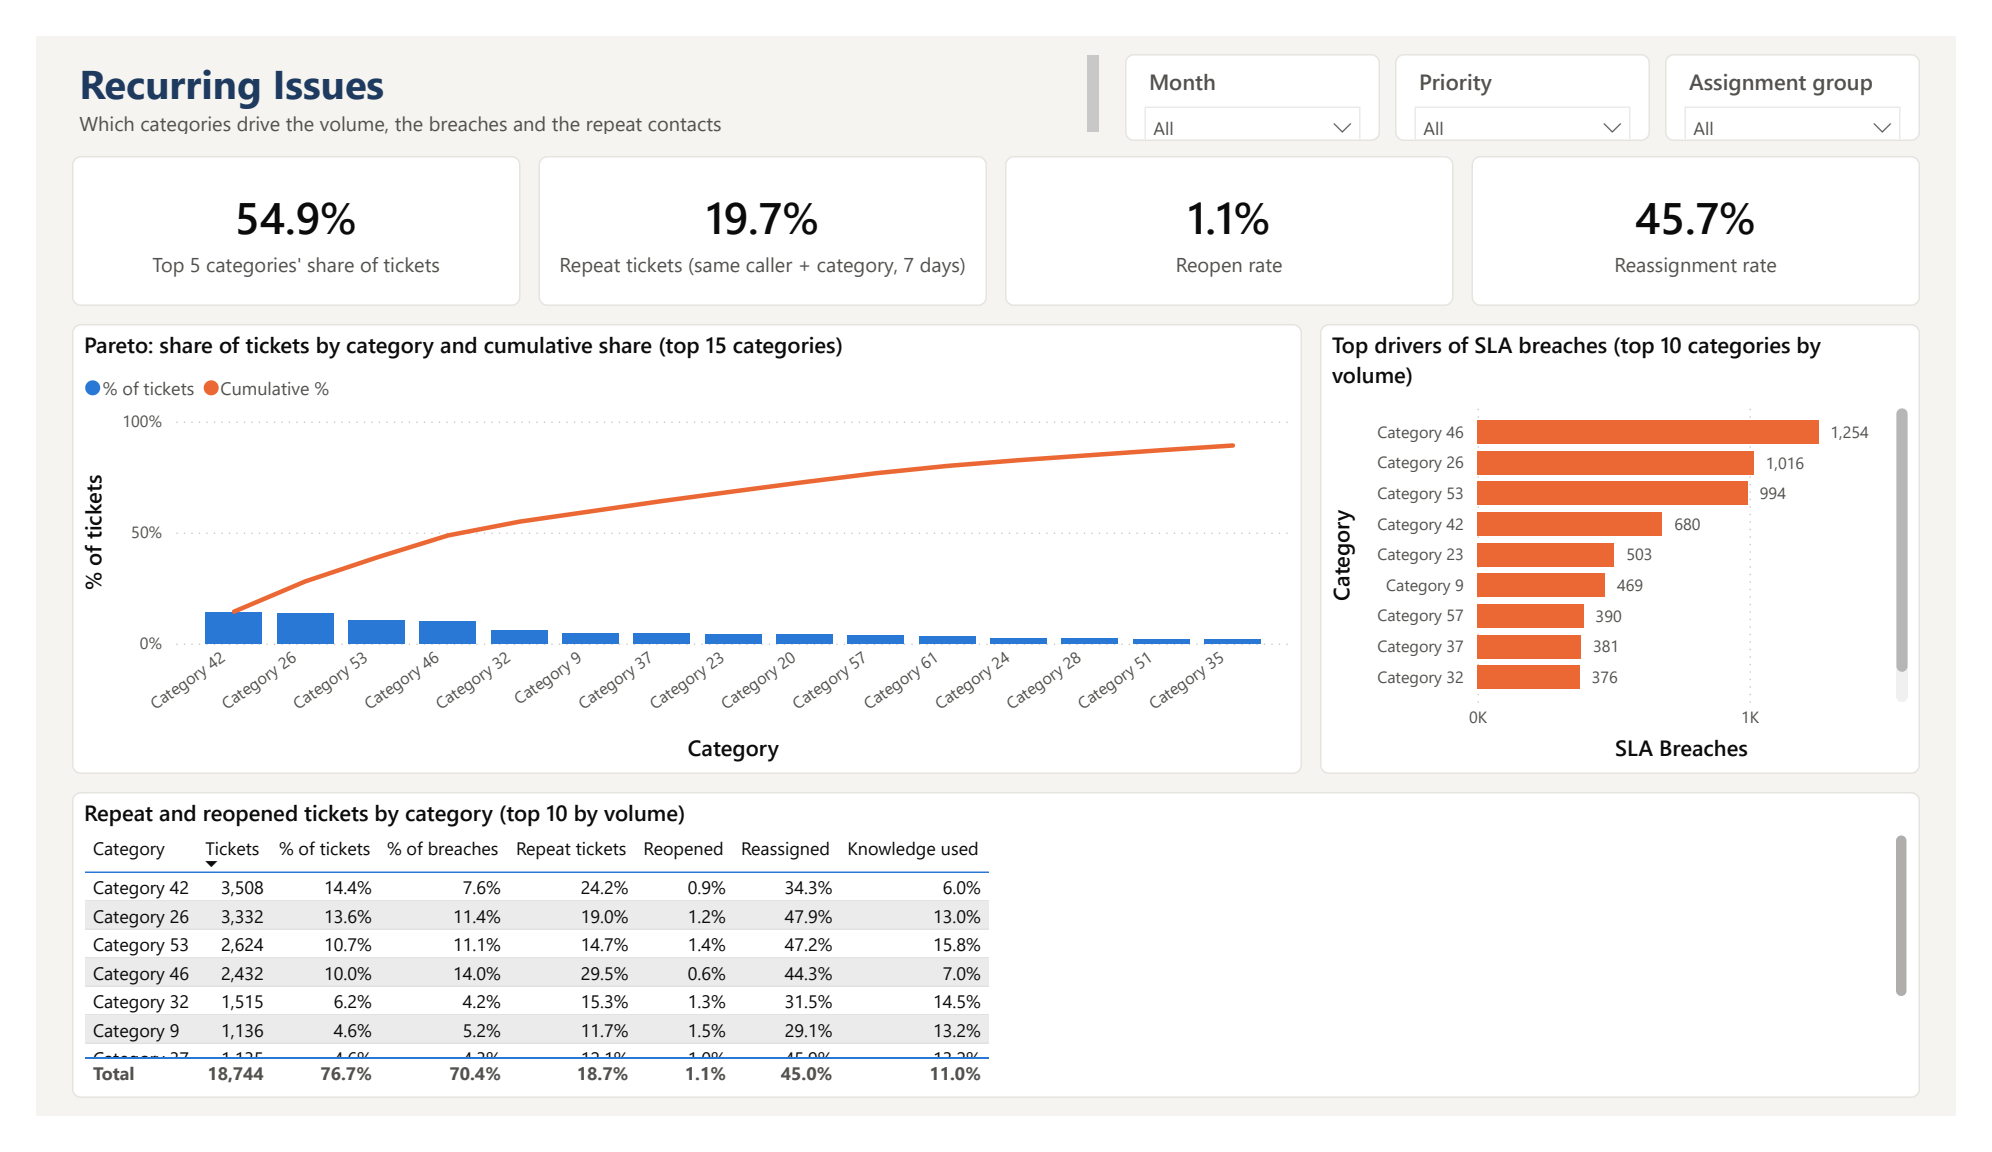

What the dashboard file says about the page in this screenshot:
{"tool":"powerbi","page":{"name":"Recurring Issues","canvas":[1280,720],"ordinal":2},"visuals":[{"type":"textbox","box":[24,8,690,62],"z":1000},{"type":"slicer","fields":{"Values":["Date.month_name"]},"box":[726,12,170,58],"z":2000},{"type":"slicer","fields":{"Values":["Priority.priority_short"]},"box":[906,12,170,58],"z":3000},{"type":"slicer","fields":{"Values":["Assignment Group.assignment_group"]},"box":[1086,12,170,58],"z":4000},{"type":"card","fields":{"Values":["Metrics.Top 5 Category Share"]},"box":[24,80,299,100],"z":5000},{"type":"card","fields":{"Values":["Metrics.Repeat Rate"]},"box":[335,80,299,100],"z":6000},{"type":"card","fields":{"Values":["Metrics.Reopen Rate"]},"box":[646,80,299,100],"z":7000},{"type":"card","fields":{"Values":["Metrics.Reassignment Rate"]},"box":[957,80,299,100],"z":8000},{"type":"lineClusteredColumnComboChart","title":"Pareto: share of tickets by category and cumulative share (top 15 categories)","fields":{"Category":["Category.category"],"Y":["Metrics.Ticket Share"],"Y2":["Metrics.Pareto Cumulative %"]},"box":[24,192,820,300],"z":9000},{"type":"clusteredBarChart","title":"Top drivers of SLA breaches (top 10 categories by volume)","fields":{"Category":["Category.category"],"Y":["Metrics.SLA Breaches"]},"box":[856,192,400,300],"z":10000},{"type":"tableEx","title":"Repeat and reopened tickets by category (top 10 by volume)","fields":{"Values":["Category.category","Metrics.Tickets","Metrics.Ticket Share","Metrics.Breach Share","Metrics.Repeat Rate","Metrics.Reopen Rate","Metrics.Reassignment Rate","Metrics.Knowledge Use %"]},"box":[24,504,1232,204],"z":11000}]}

Visuals, with their boxes in screenshot pixels (x1, y1, x2, y2), scaled from the page's 1280x720 canvas onto the 1992x1152 screenshot:
textbox: pyautogui.locateOnScreen(37, 13, 1111, 112)
slicer - Date.month_name: pyautogui.locateOnScreen(1130, 19, 1394, 112)
slicer - Priority.priority_short: pyautogui.locateOnScreen(1410, 19, 1675, 112)
slicer - Assignment Group.assignment_group: pyautogui.locateOnScreen(1690, 19, 1955, 112)
card - Metrics.Top 5 Category Share: pyautogui.locateOnScreen(37, 128, 503, 288)
card - Metrics.Repeat Rate: pyautogui.locateOnScreen(521, 128, 987, 288)
card - Metrics.Reopen Rate: pyautogui.locateOnScreen(1005, 128, 1471, 288)
card - Metrics.Reassignment Rate: pyautogui.locateOnScreen(1489, 128, 1955, 288)
"Pareto: share of tickets by category and cumulative share (top 15 categories)" lineClusteredColumnComboChart: pyautogui.locateOnScreen(37, 307, 1313, 787)
"Top drivers of SLA breaches (top 10 categories by volume)" clusteredBarChart: pyautogui.locateOnScreen(1332, 307, 1955, 787)
"Repeat and reopened tickets by category (top 10 by volume)" tableEx: pyautogui.locateOnScreen(37, 806, 1955, 1133)
